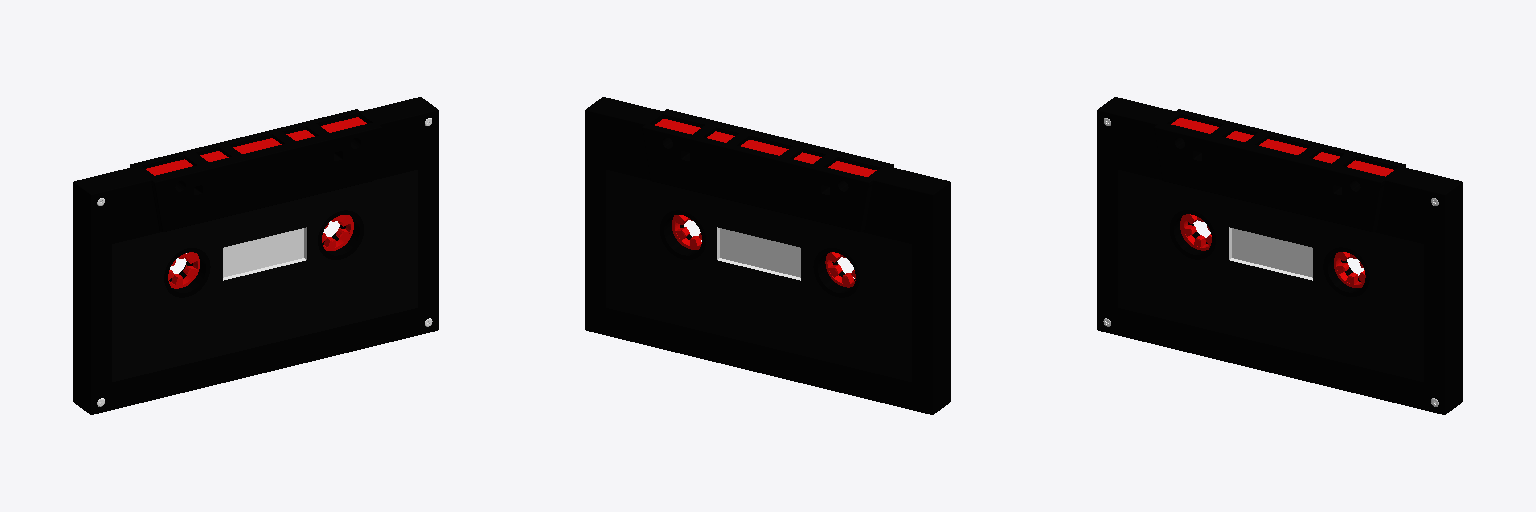
File: Darth Cassette Google-1.obj
3 renders of one model, left to right at view 1: azimuth 30°, elevation 25°; view 2: azimuth 150°, elevation 25°; view 3: azimuth 330°, elevation 25°, orthographic.
Visible parts, largest first — view 1: Casette.2, Face, Transparent_face, Tube, Tube_1; view 2: Casette.2, Face, Transparent_face, Tube, Tube_1; view 3: Casette.2, Face, Transparent_face, Tube_1, Tube.
Part boxes in pixels (bbox=[...]): Casette.2: bbox=[73, 97, 438, 414]; Face: bbox=[112, 170, 417, 381]; Transparent_face: bbox=[223, 228, 303, 277]; Tube: bbox=[322, 215, 353, 250]; Tube_1: bbox=[168, 252, 199, 288]; Casette.2: bbox=[585, 97, 950, 414]; Face: bbox=[606, 170, 911, 381]; Transparent_face: bbox=[720, 228, 800, 277]; Tube: bbox=[672, 215, 701, 249]; Tube_1: bbox=[825, 252, 855, 287]; Casette.2: bbox=[1097, 97, 1462, 414]; Face: bbox=[1118, 170, 1423, 381]; Transparent_face: bbox=[1232, 228, 1312, 277]; Tube_1: bbox=[1180, 214, 1211, 250]; Tube: bbox=[1334, 252, 1365, 287].
Bounding box in the file's own units: 330 × 200 × 40.82.